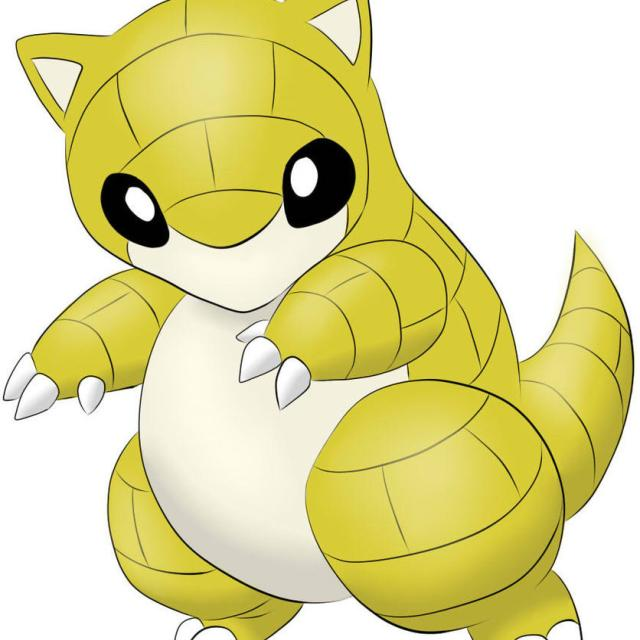Sandshrew: (50, 27, 600, 640)
